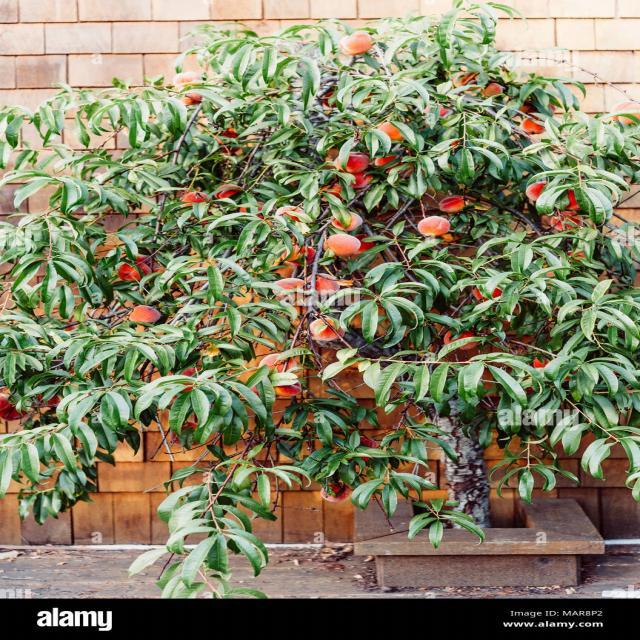Peach: (73, 23, 600, 426)
